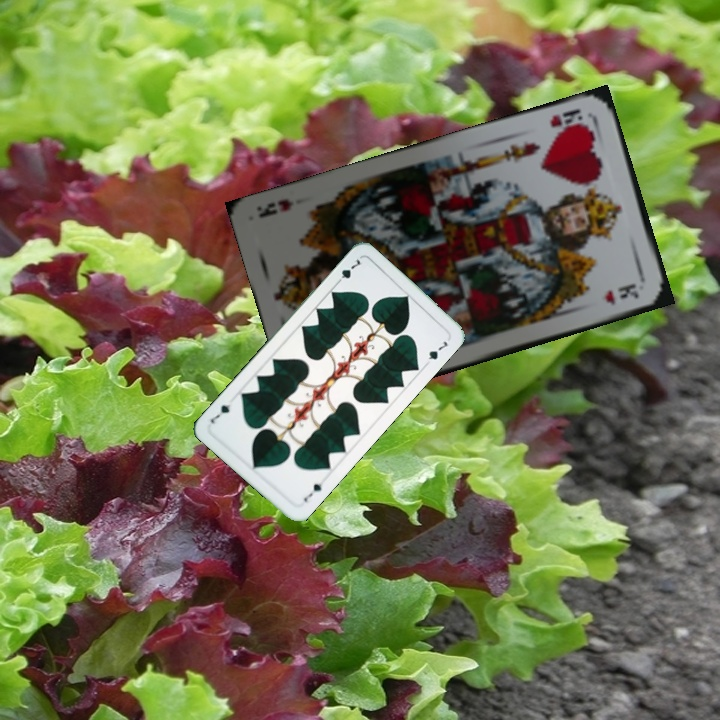G7: (331, 255, 364, 288), (299, 479, 324, 505)
HK: (546, 105, 592, 136)
